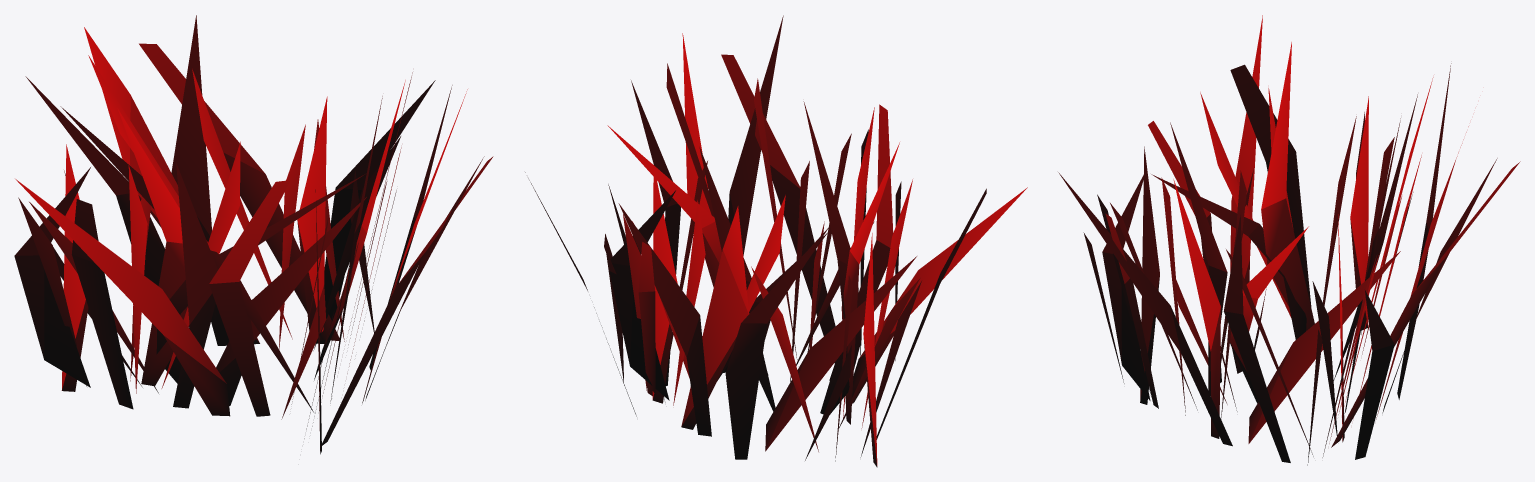
File: SM_detail_grassS_C_LOD1.FBX
3 views of the same model, side by side, from view 1: azimuth 30°, elevation 25°; view 2: azimuth 150°, elevation 25°; view 3: azimuth 270°, elevation 25° (orthographic). The views are drawn at different scales.
Parts seen in each view (by area): view 1: SM_detail_grassM_C_LOD1; view 2: SM_detail_grassM_C_LOD1; view 3: SM_detail_grassM_C_LOD1.
Boxes of the visible parts, x1=… form: SM_detail_grassM_C_LOD1: x1=14, y1=15, x2=493, y2=454; SM_detail_grassM_C_LOD1: x1=525, y1=15, x2=1027, y2=467; SM_detail_grassM_C_LOD1: x1=1058, y1=15, x2=1520, y2=465.
Bounding box in the file's own units: 153 × 106 × 135.
